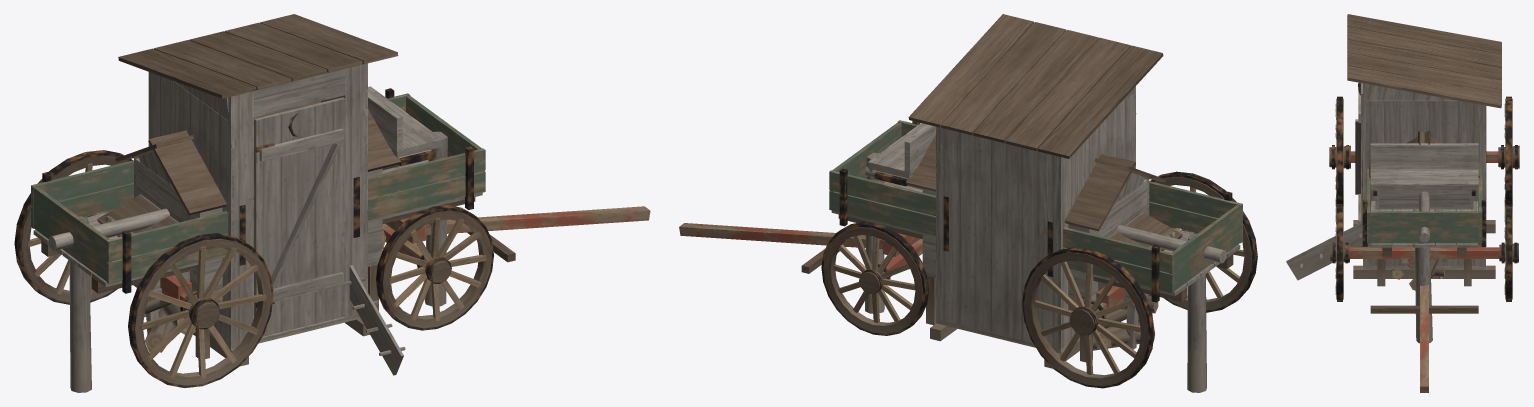
File: ranch.glb
The picture shows the model from 3 angles, left to right: view 1: azimuth 30°, elevation 25°; view 2: azimuth 150°, elevation 25°; view 3: azimuth 270°, elevation 25°; orthographic projection. The views are drawn at different scales.
Visible parts, largest first — view 1: wagon_farm, outhouse, chicken_coop, hitch_rail_short, woodpile; view 2: outhouse, wagon_farm, chicken_coop, hitch_rail_short, woodpile; view 3: outhouse, wagon_farm, chicken_coop, hitch_rail_short, woodpile.
Boxes of the visible parts, x1,y1,x2,y2 form: wagon_farm: (14,86,650,387); outhouse: (118,14,398,366); chicken_coop: (97,101,405,375); hitch_rail_short: (48,131,447,392); woodpile: (144,230,386,352); outhouse: (908,14,1163,368); wagon_farm: (679,120,1257,388); chicken_coop: (906,134,1182,362); hitch_rail_short: (865,152,1226,392); woodpile: (1093,294,1158,350); outhouse: (1347,14,1501,278); wagon_farm: (1329,96,1519,392); chicken_coop: (1286,130,1480,286); hitch_rail_short: (1415,191,1432,343); woodpile: (1407,245,1444,290).
Bounding box in the file's own units: 5.21 × 2.59 × 2.38.
1 material, 1 textured.
